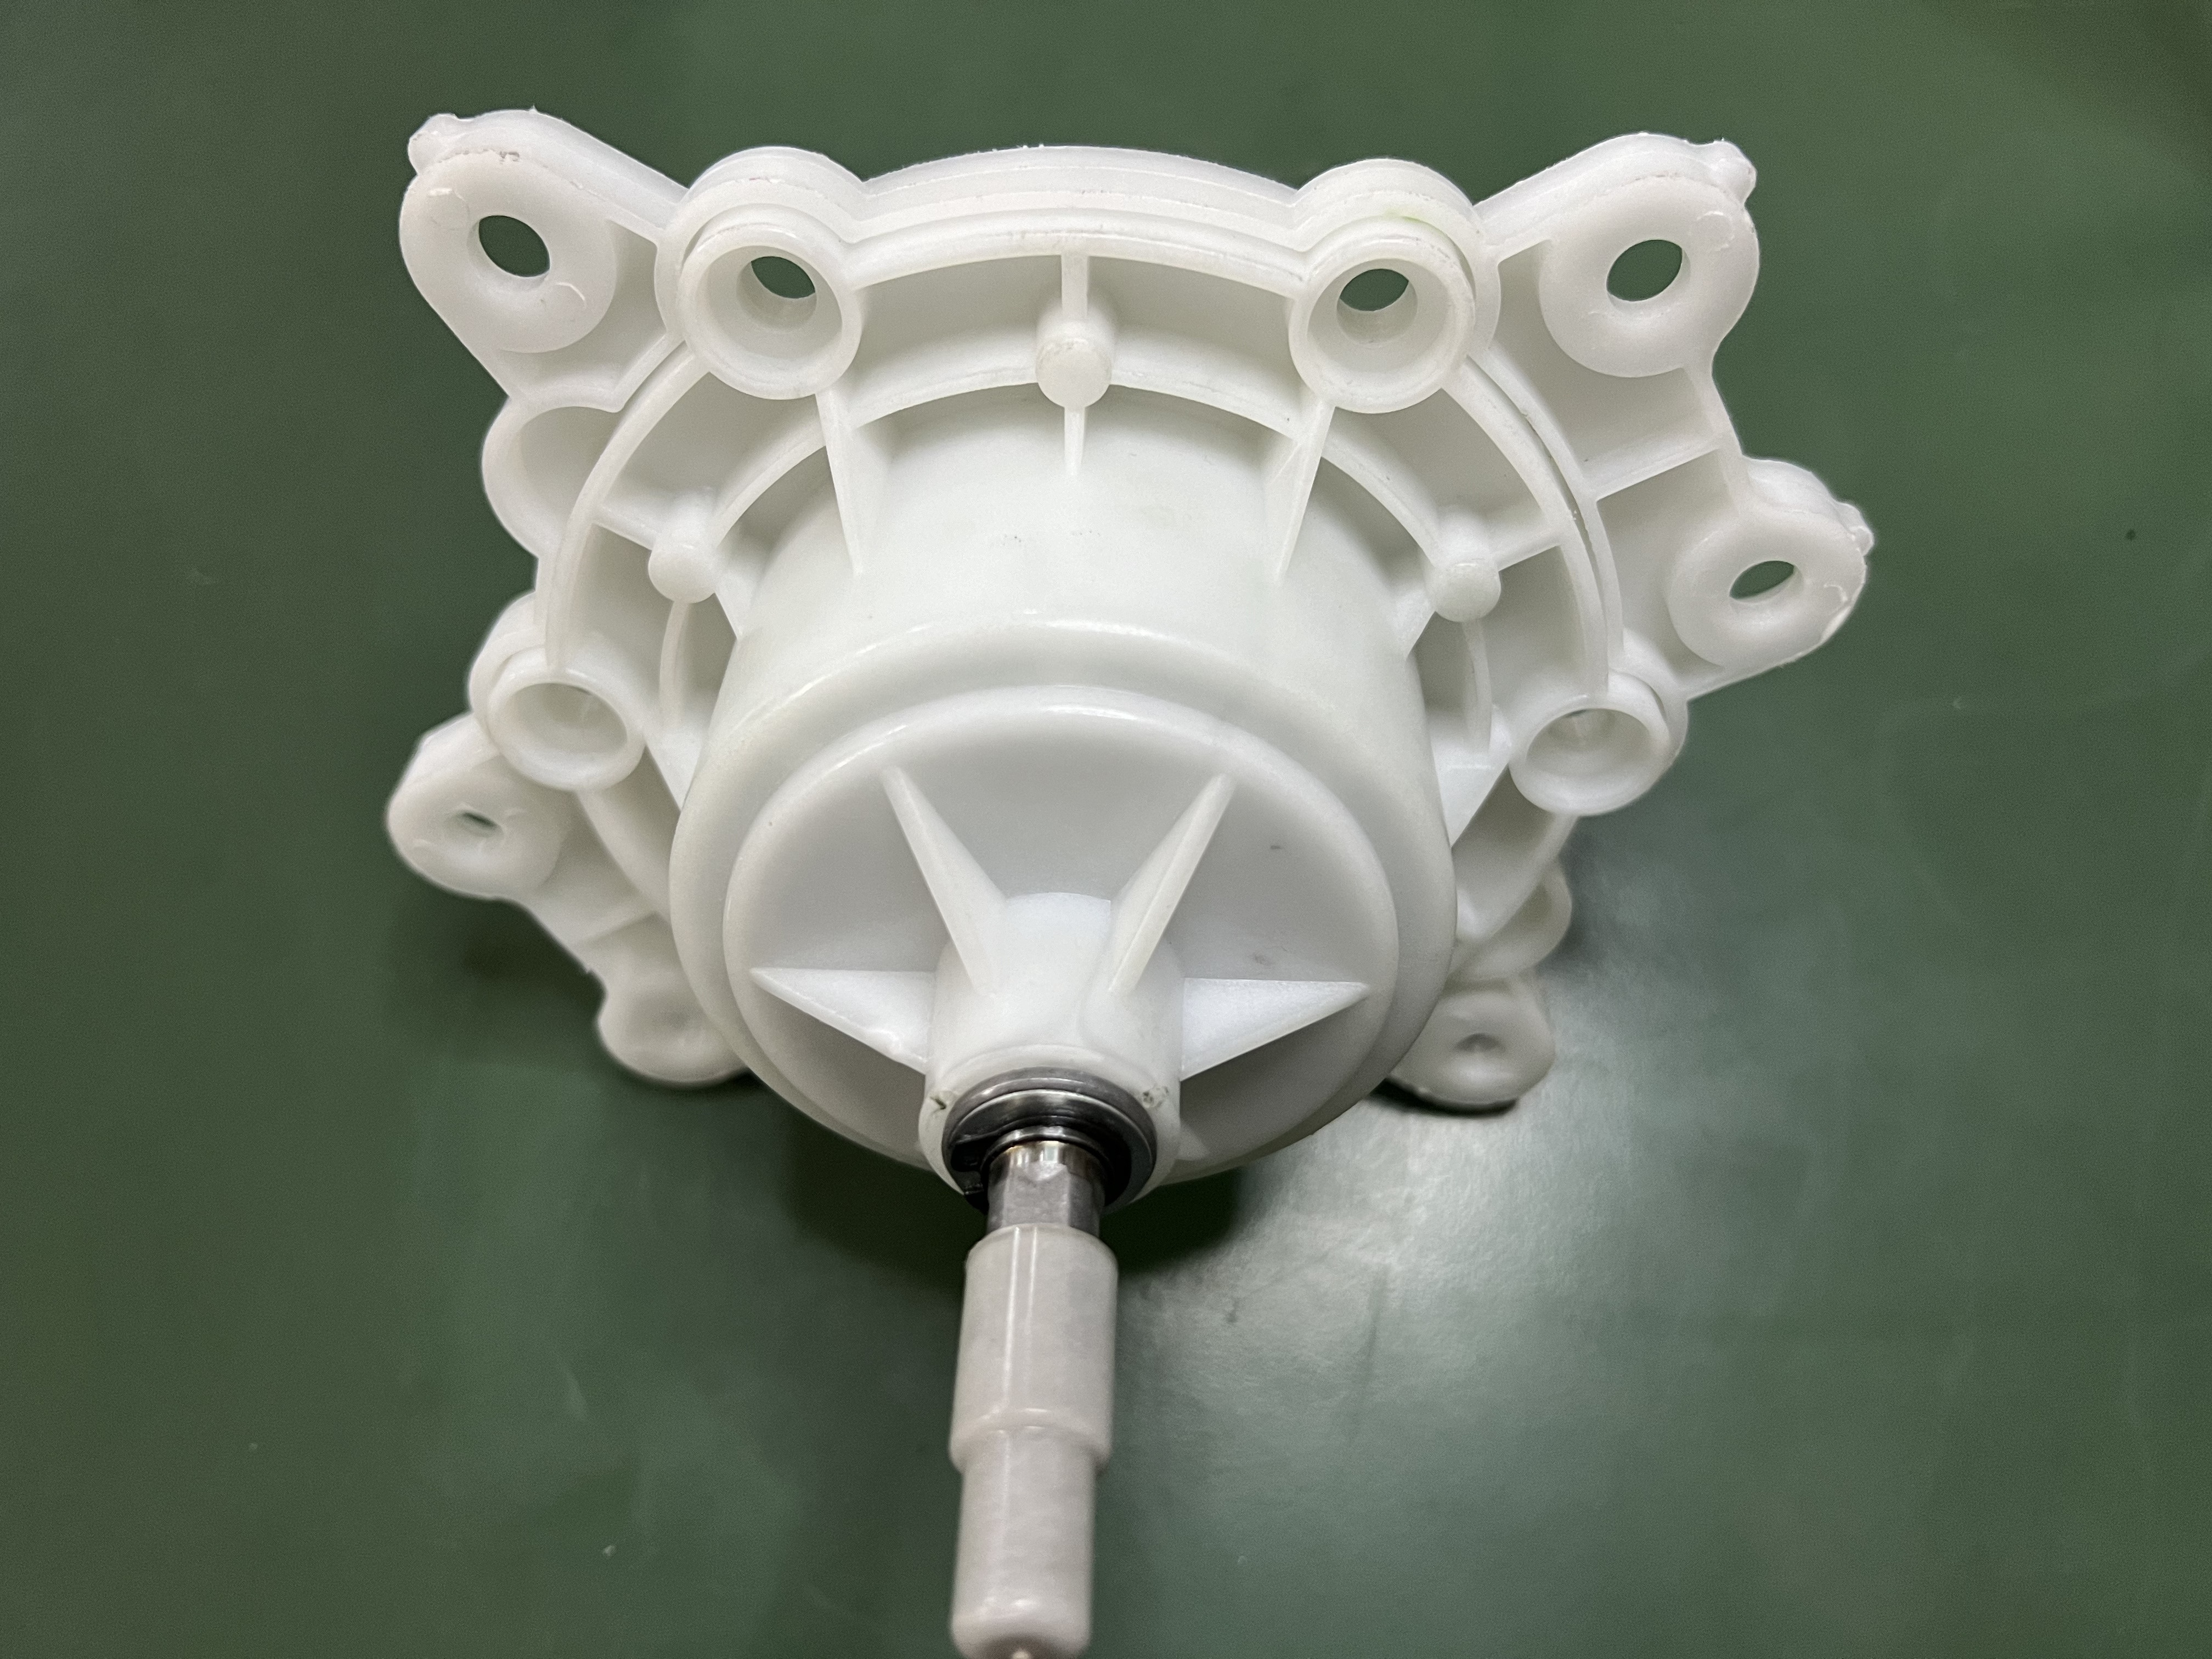gear_box_design: (352, 84, 1872, 1636)
